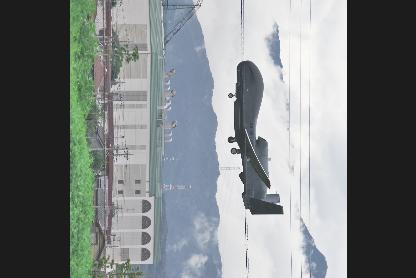P3: (227, 60, 283, 214)
